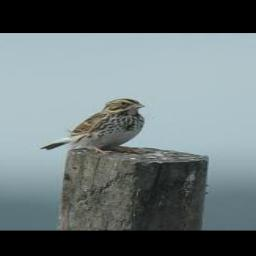Sparrow: (39, 97, 149, 155)
